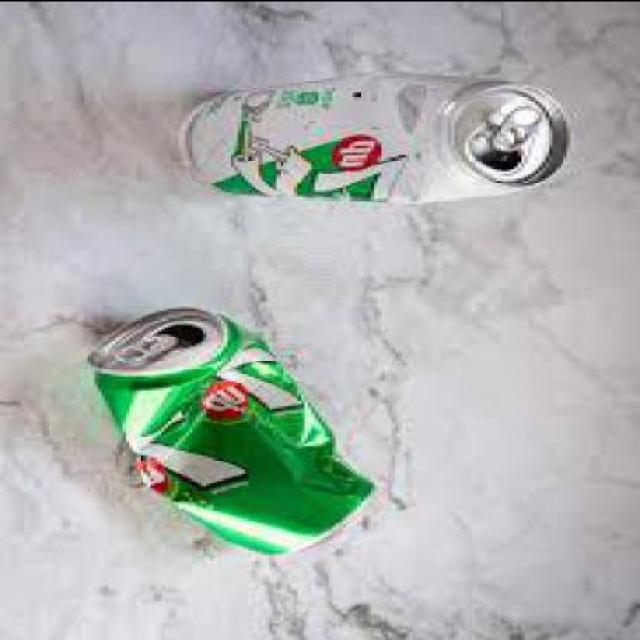METAL: (88, 307, 384, 556), (175, 78, 573, 207)
